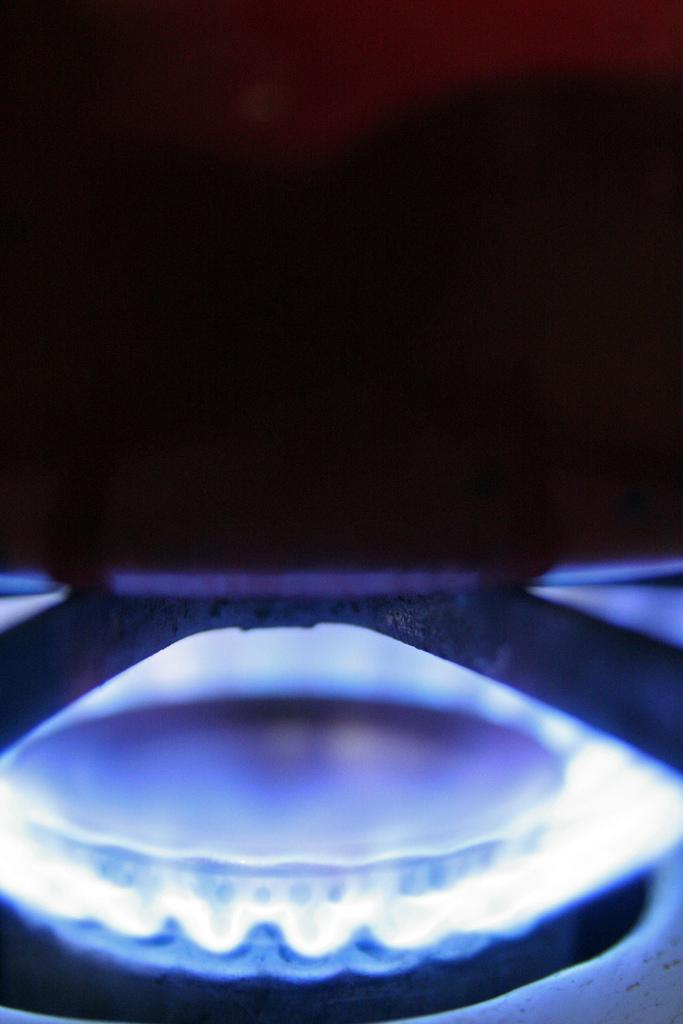fire: (0, 790, 650, 992)
